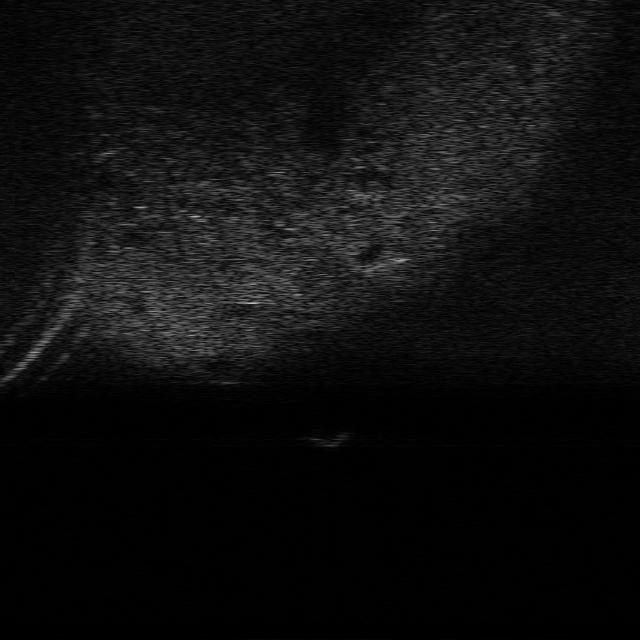cube: (302, 424, 352, 451)
